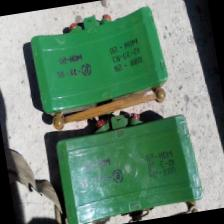MOH-50: (48, 110, 216, 224), (22, 6, 184, 122)
